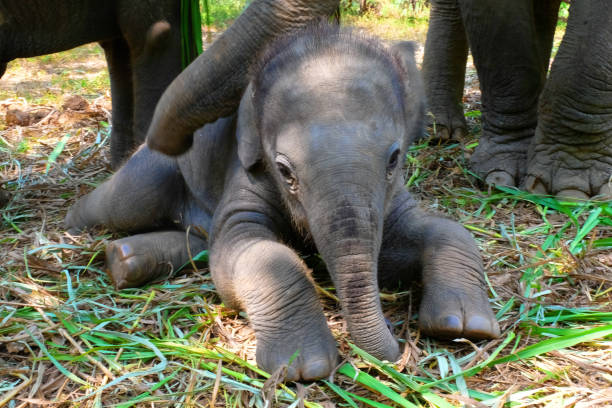Baby Elephant: (72, 28, 534, 391)
